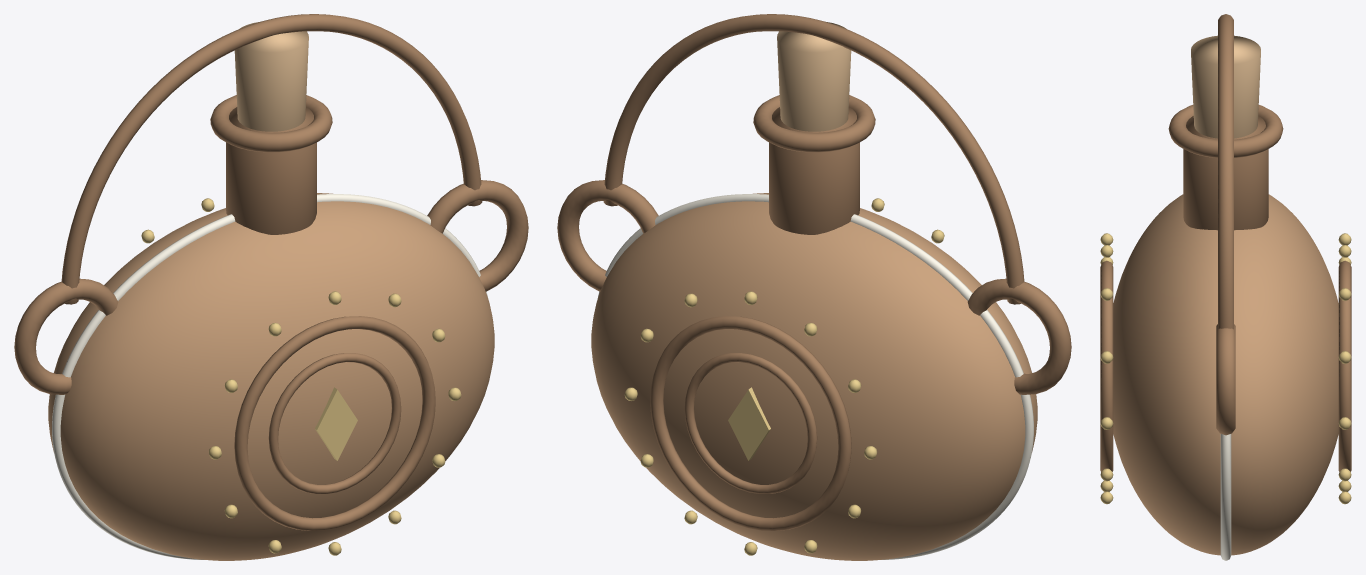
Rendered from torsyk.glb.
The picture shows the model from 3 angles, left to right: view 1: azimuth 30°, elevation 25°; view 2: azimuth 150°, elevation 25°; view 3: azimuth 270°, elevation 25°; orthographic projection. The views are drawn at different scales.
Visible parts, largest first — view 1: body, strap, emboss, handle (×2), neck, stopper, seam, emboss2, rim, diamond; view 2: body, strap, emboss, handle (×2), neck, stopper, seam, emboss2, rim, diamond; view 3: body, neck, emboss (×2), strap, stopper, rim, handle, seam.
Boxes of the visible parts, x1=… form: body: x1=48, y1=193, x2=494, y2=560; strap: x1=61, y1=14, x2=482, y2=304; emboss: x1=234, y1=316, x2=435, y2=530; handle (×2): x1=14, y1=180, x2=528, y2=394; neck: x1=226, y1=107, x2=316, y2=234; stopper: x1=234, y1=22, x2=308, y2=131; seam: x1=52, y1=194, x2=488, y2=559; emboss2: x1=268, y1=353, x2=401, y2=493; rim: x1=210, y1=95, x2=332, y2=152; diamond: x1=315, y1=387, x2=357, y2=460; body: x1=591, y1=193, x2=1037, y2=560; strap: x1=603, y1=14, x2=1024, y2=304; emboss: x1=650, y1=316, x2=851, y2=530; handle (×2): x1=557, y1=180, x2=1071, y2=394; neck: x1=769, y1=107, x2=859, y2=234; stopper: x1=777, y1=22, x2=851, y2=131; seam: x1=597, y1=194, x2=1033, y2=559; emboss2: x1=684, y1=353, x2=817, y2=493; rim: x1=753, y1=95, x2=875, y2=152; diamond: x1=728, y1=387, x2=770, y2=460; body: x1=1113, y1=194, x2=1338, y2=555; neck: x1=1183, y1=116, x2=1268, y2=230; emboss (×2): x1=1100, y1=260, x2=1351, y2=471; strap: x1=1218, y1=14, x2=1233, y2=329; stopper: x1=1191, y1=35, x2=1260, y2=138; rim: x1=1168, y1=105, x2=1283, y2=157; handle: x1=1216, y1=324, x2=1235, y2=435; seam: x1=1220, y1=434, x2=1231, y2=560.
Size of the model in its own units: 2.99 by 2.97 by 1.36.
